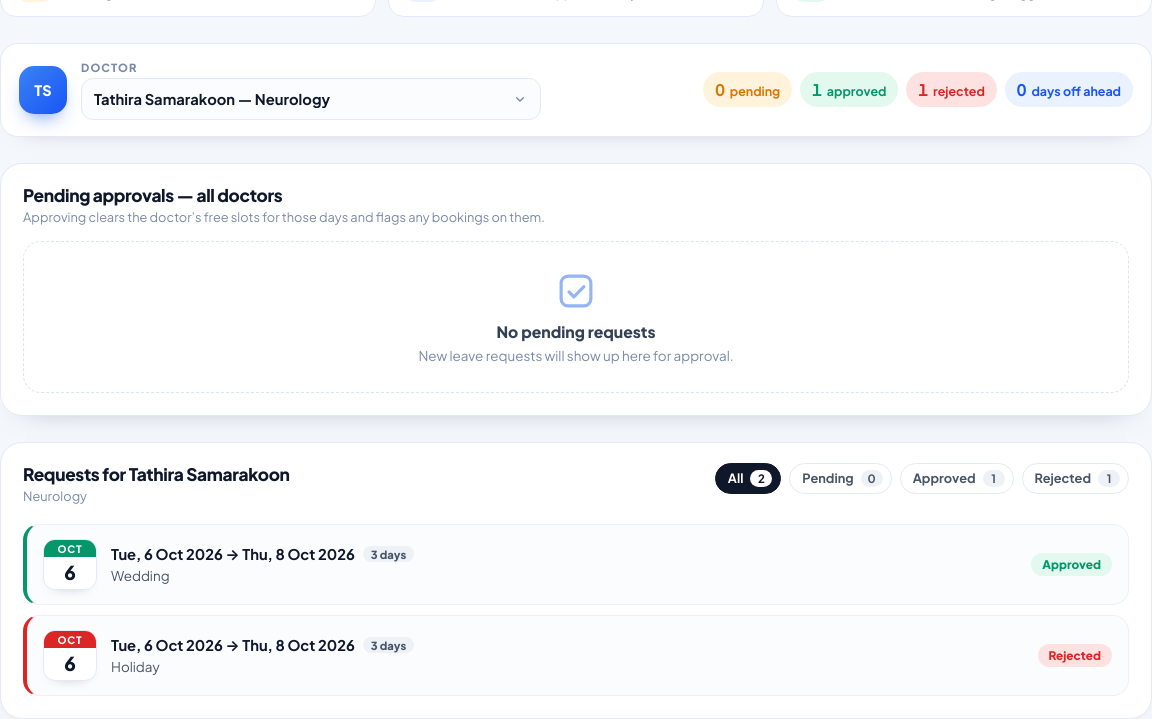
Test: DoctorLeavePage redesign interactions › filters the requests by status
(page scrolled)
Expected: the text "Wedding" is shown, [111, 567, 170, 584]
Step 1. Click the button "Rejected 1" → [1075, 478], box [1022, 463, 1129, 494]
(page scrolled)
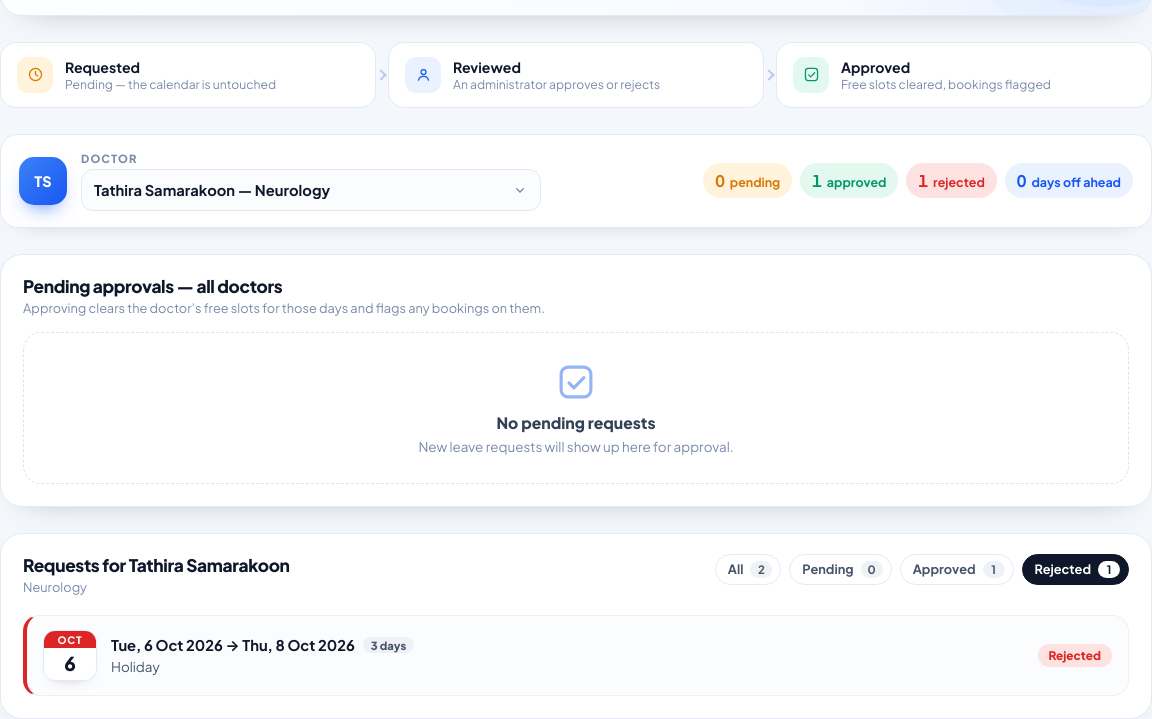
Expected: the text "Holiday" is shown, [111, 658, 160, 675]
Now the text "Wedding" is gone
